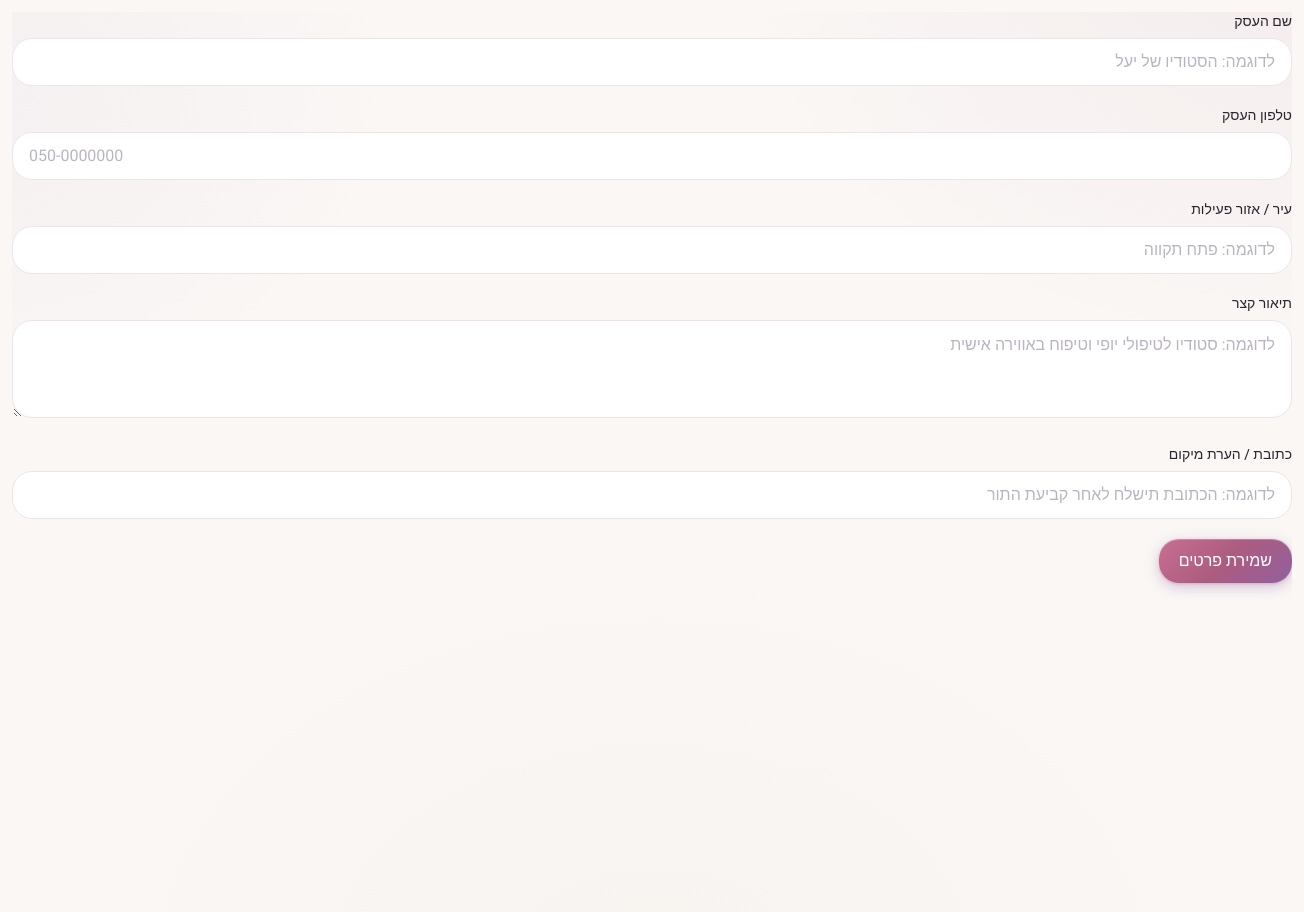
Test case: BusinessDetailsForm › renders the success message from the action
The image size is (1304, 912).
Click the button "שמירת פרטים": x=1225, y=561 left=1159, top=539, right=1292, bottom=583
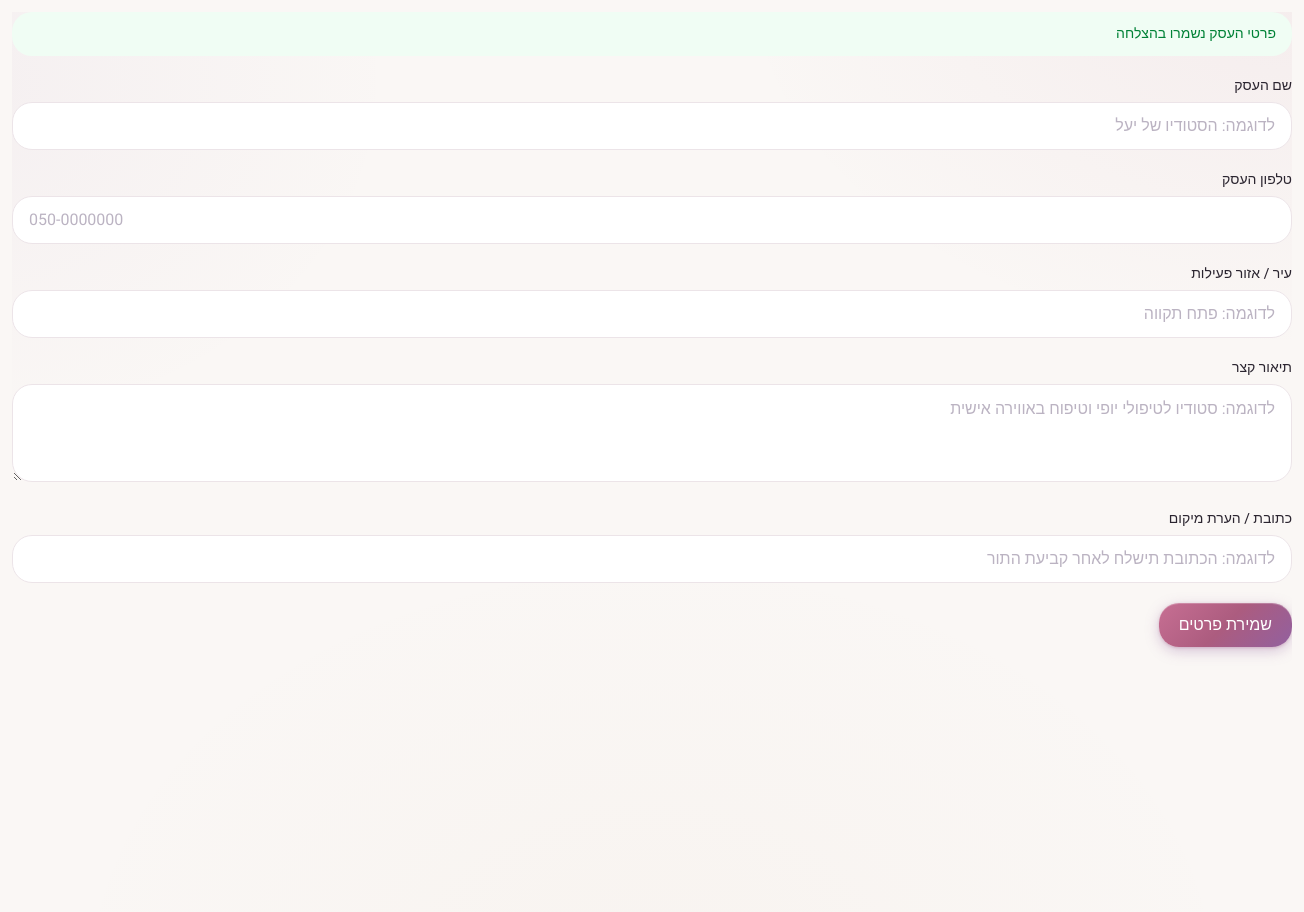
Result: the text "פרטי העסק נשמרו בהצלחה" is shown at left=12, top=12, right=1292, bottom=56
